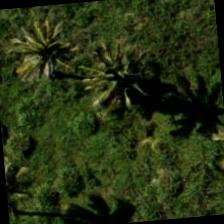Kelapa_Sawit: (75, 28, 173, 126), (0, 3, 83, 101)
